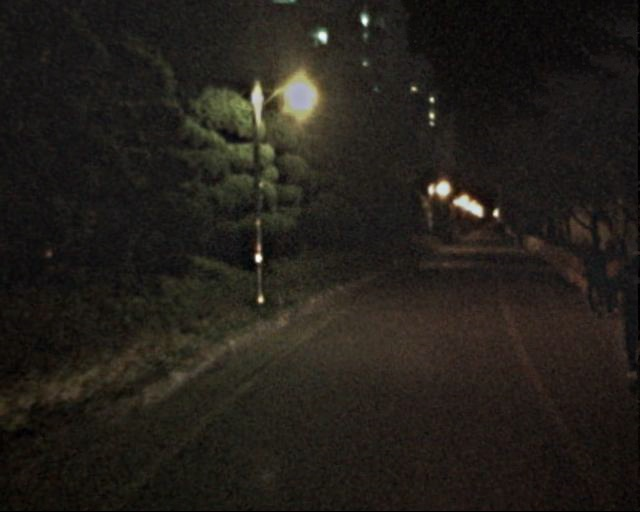person: (604, 235, 640, 388), (580, 236, 612, 315), (595, 238, 626, 314)
